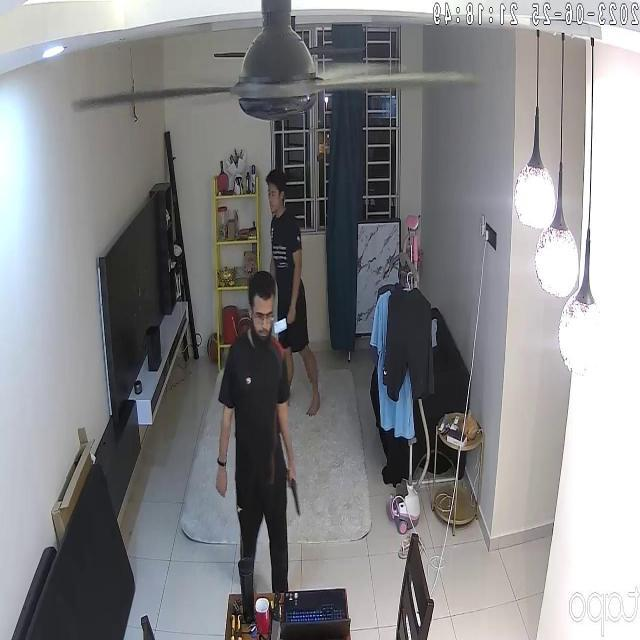Gun: (276, 458, 315, 518)
Knife: (276, 312, 303, 338)
